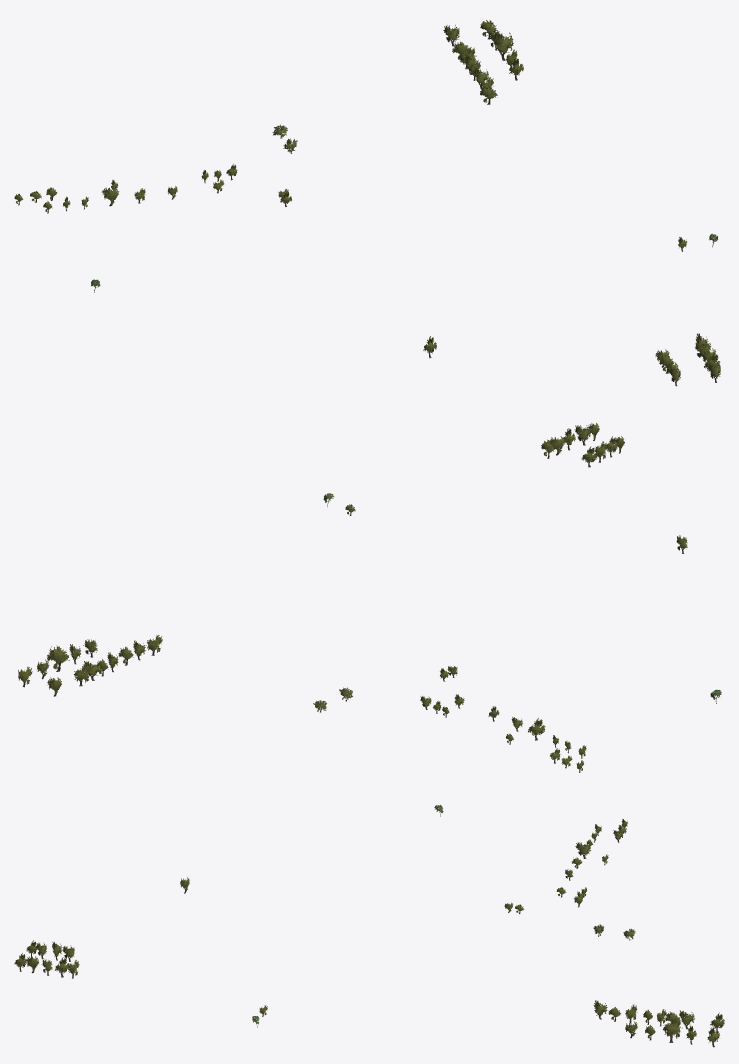
3 views of the same model, one above another, from view 1: azimuth 30°, elevation 25°; view 2: azimuth 150°, elevation 25°; view 3: azimuth 270°, elevation 25° (orthographic). The views are drawn at different scales.
Parts seen in each view (by area): view 1: island_tree_01 street foliage; view 2: island_tree_01 street foliage, island_tree_01 park bark; view 3: island_tree_01 street foliage, island_tree_01 park bark.
Part boxes in pixels (box(x1,y1,x2,y2)): island_tree_01 street foliage: box(14, 20, 720, 381); island_tree_01 street foliage: box(18, 422, 687, 770); island_tree_01 park bark: box(22, 431, 684, 772); island_tree_01 street foliage: box(14, 819, 724, 1042); island_tree_01 park bark: box(17, 824, 718, 1047).
Size of the model in its own units: 240 by 11.88 by 304.
6 materials, 6 textured.
